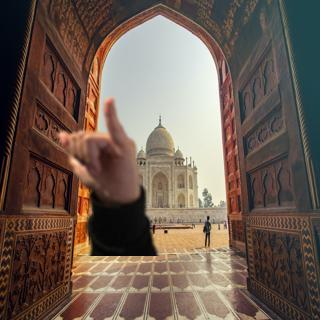HAVE: (50, 96, 144, 201)
